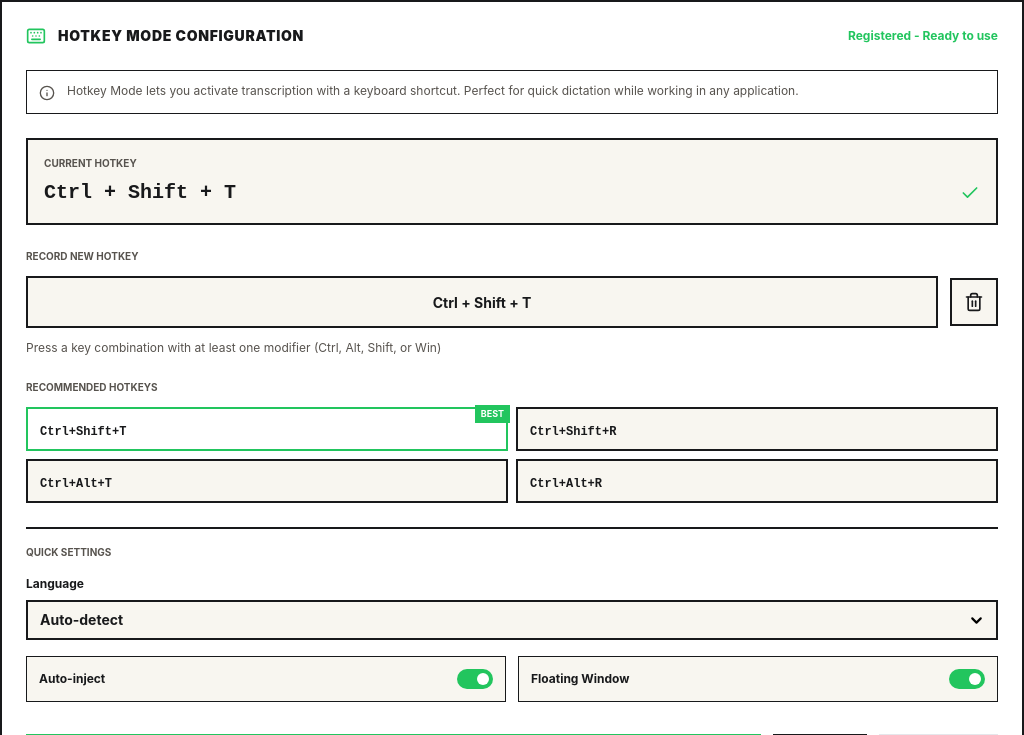
Test: HotkeySettings › Hotkey Recording › clears combo when clicking clear button
Click the button titled "Clear" at coordinates (974, 302), box [950, 278, 998, 326]
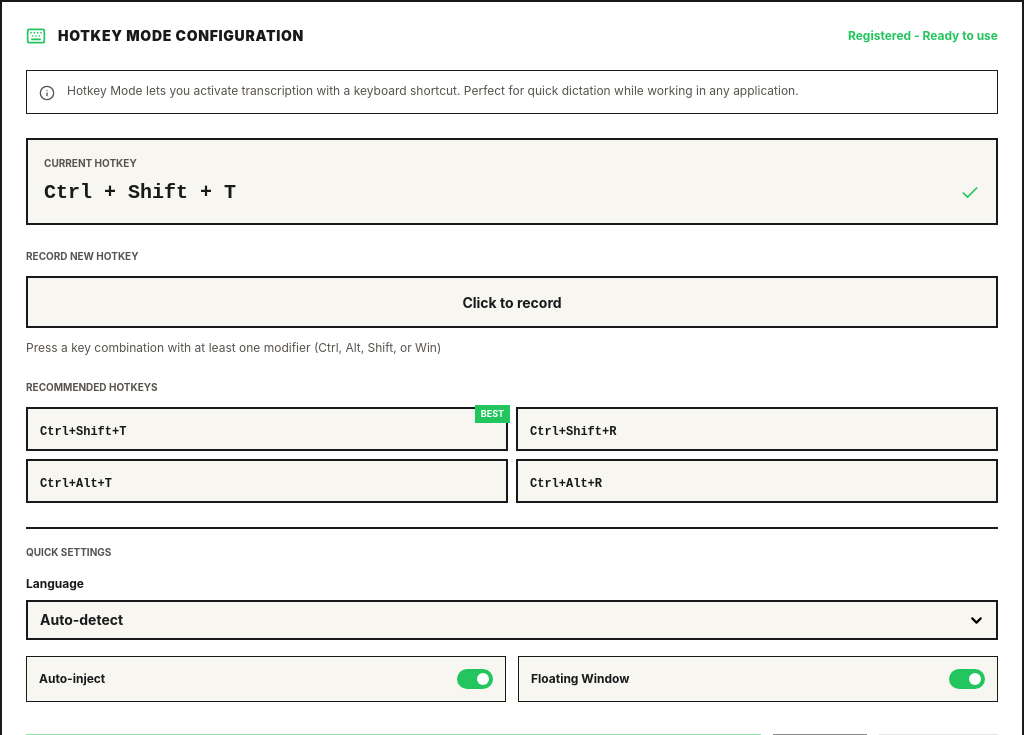
Result: the text "Click to record" is shown at [462, 294, 562, 311]
